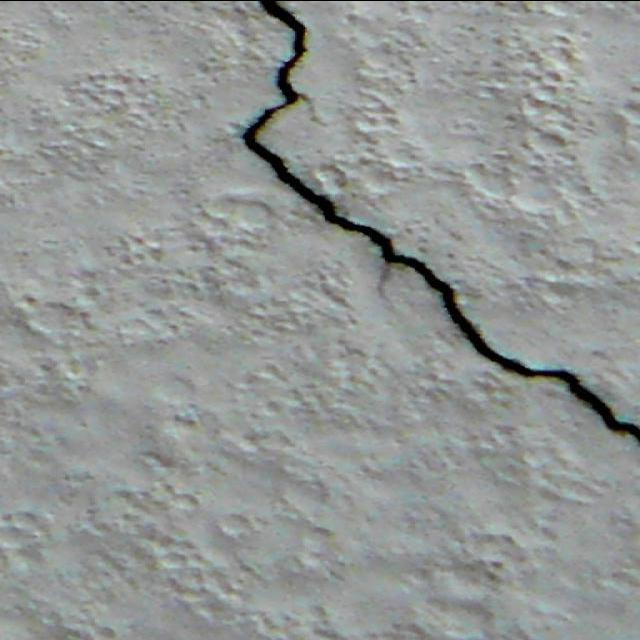crack: (3, 12, 349, 637), (239, 0, 639, 452), (240, 8, 328, 238), (260, 7, 310, 113)
